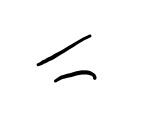eqv: (37, 34, 97, 82)
